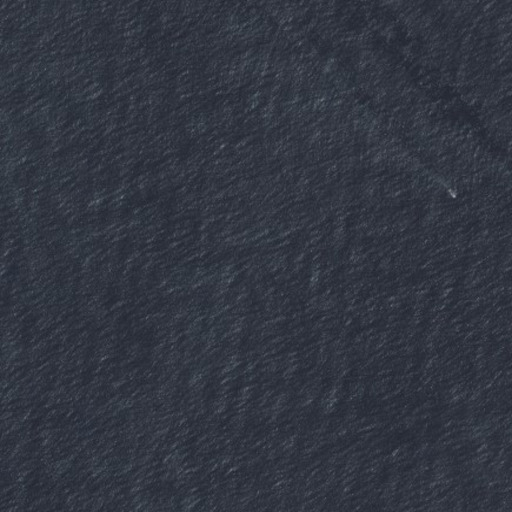ship: (444, 185, 459, 201)
